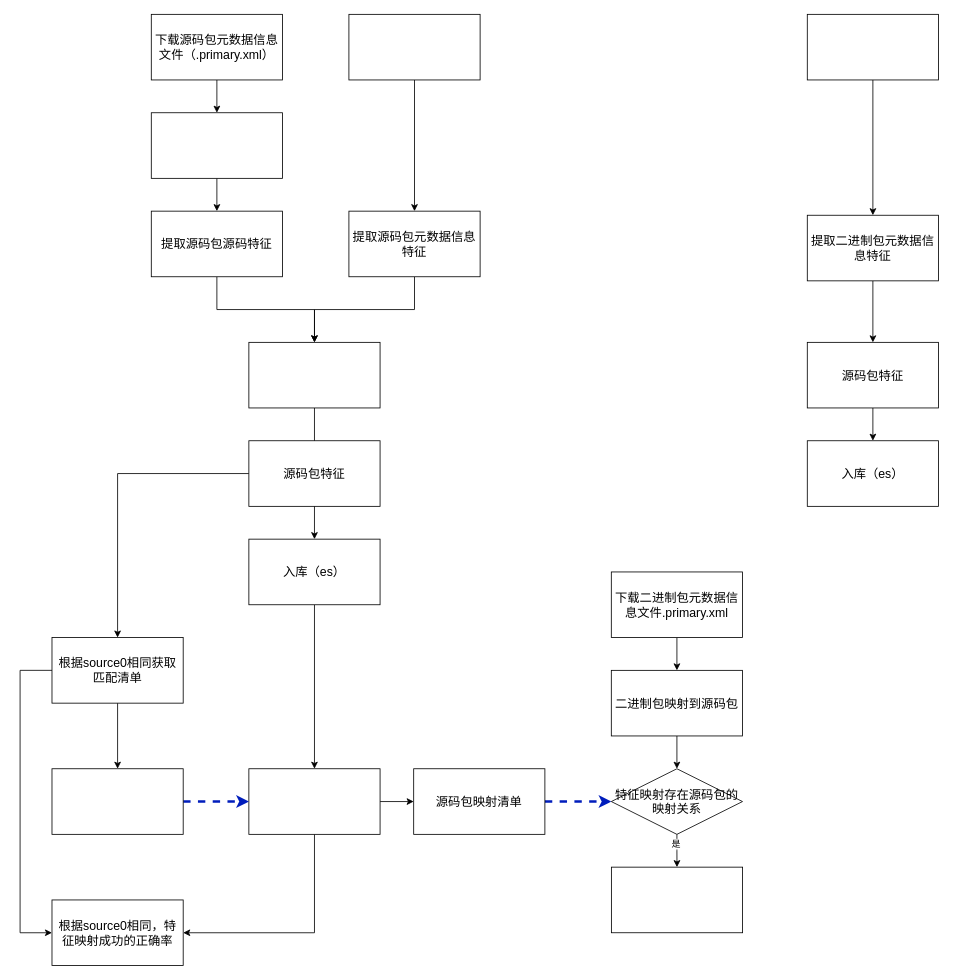
This 953x980 diagram has some shape labels left out. The centre of each missing label's shape, as x and y in pixels:
"merge合并" belongs at (x=314, y=375).
"下载二进制包元数据信息文件.filelist.xml" belongs at (x=872, y=47).
"下载源码包" belongs at (x=414, y=47).
"二进制包包名映射" belongs at (x=677, y=899).
"根据算法source0相同 计算相似度" belongs at (x=117, y=801).
"特征映射" belongs at (x=314, y=801).
"解压源码包" belongs at (x=216, y=145).
